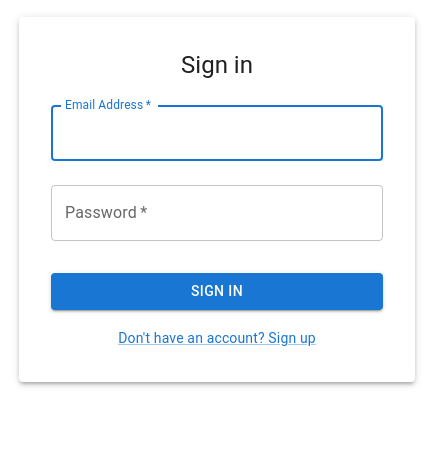
Test case: Login Component › displays error message on failed login
This screenshot has width=435, height=468.
Fill in the form with wrong credentials
Type "wronguser" into the field labelled "Email Address *" at (217, 133), box [51,105,383,161]
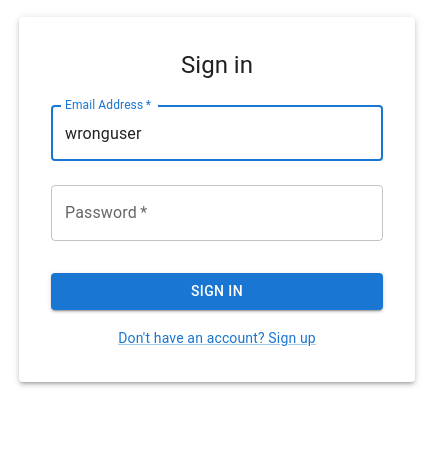
Type "wrongpass" into the password field labelled "Password *" at (217, 213), box [51,185,383,241]
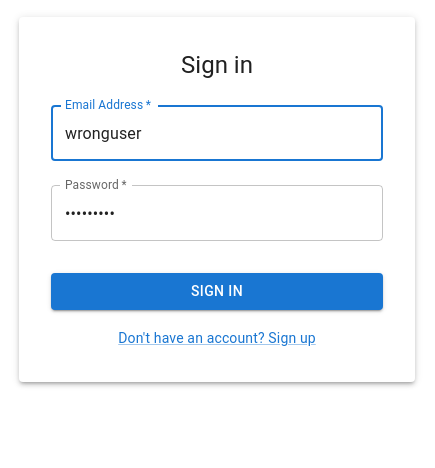
Click the sign in button
Click the button "Sign In" at (217, 292), box [51,273,383,310]
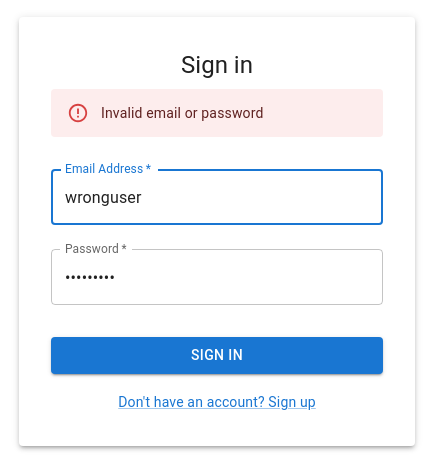
Check: the text "Invalid email or password" is shown, box [101,105,264,121]
